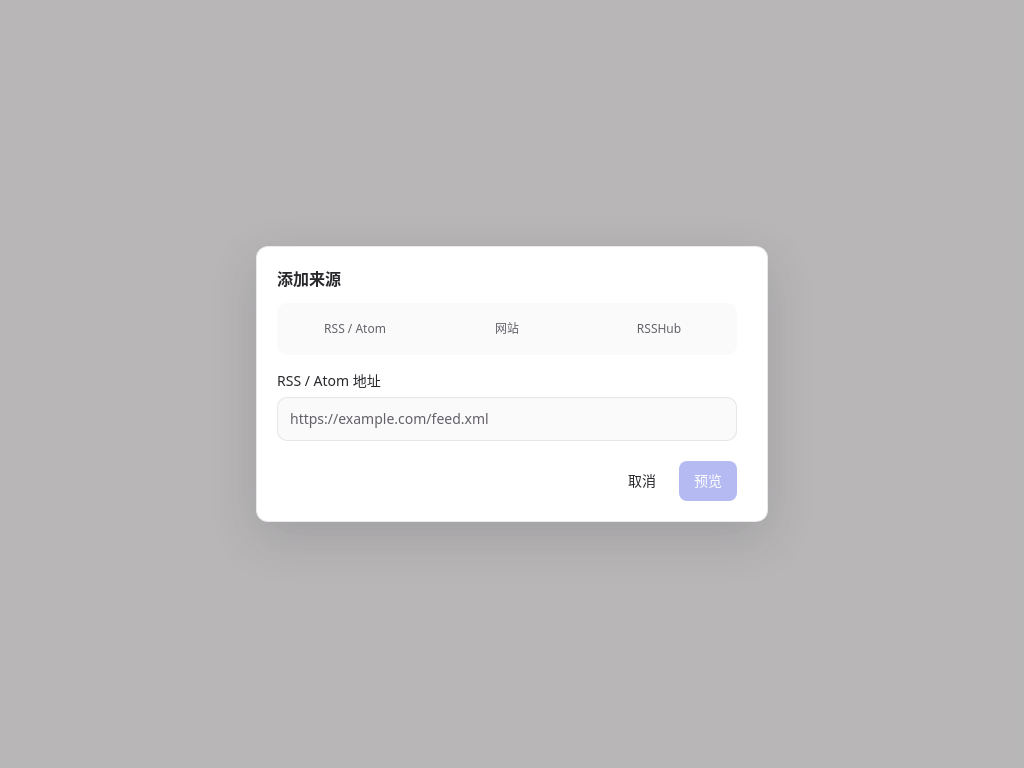
Test: AddSourceDialog — RSSHub › 搜索过滤路由
This screenshot has width=1024, height=768.
Click the tab "RSSHub": {"x": 659, "y": 329} top-left (585, 307), bottom-right (733, 351)
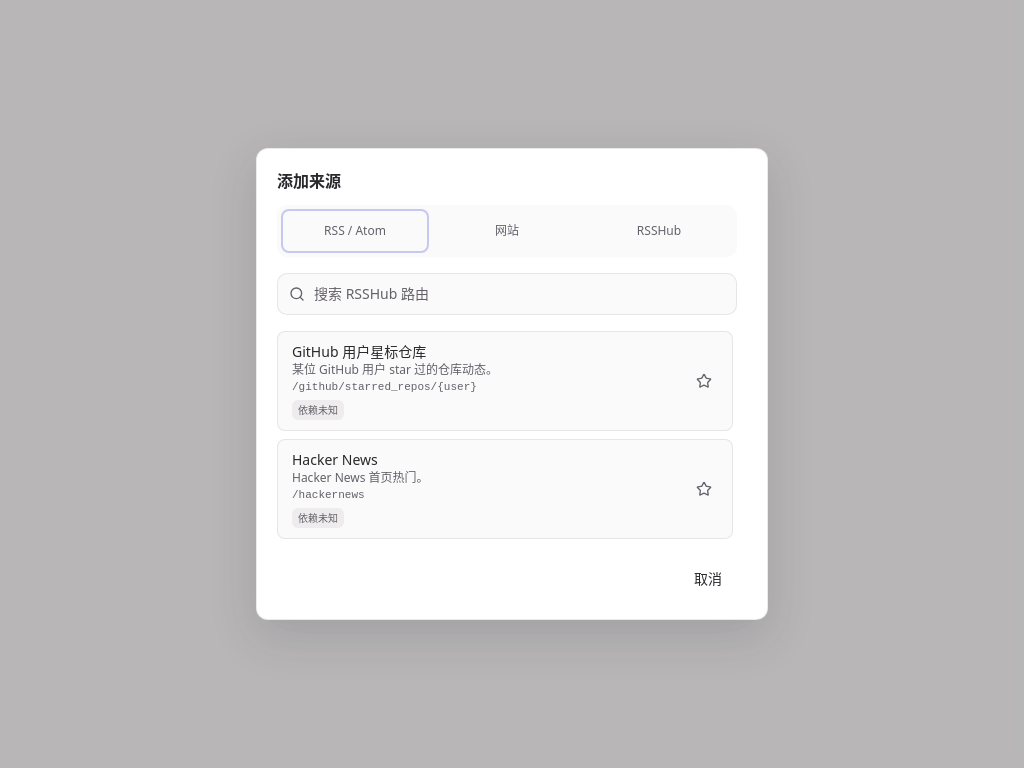
Now the text "GitHub 用户星标仓库" is shown, box top-left (292, 342), bottom-right (426, 361)
In the search field labelled "搜索 RSSHub 路由": {"x": 507, "y": 294} top-left (277, 273), bottom-right (737, 315), type "hacker"
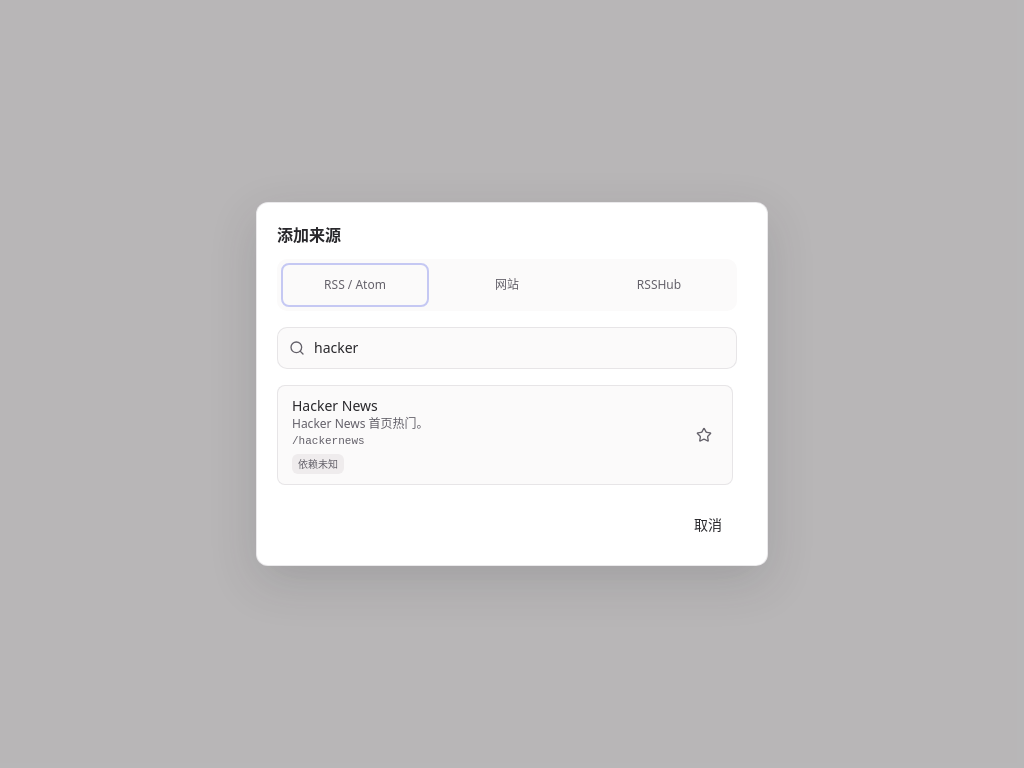
Now the text "Hacker News" is shown, box top-left (292, 396), bottom-right (378, 415)
Now the text "GitHub 用户星标仓库" is gone
